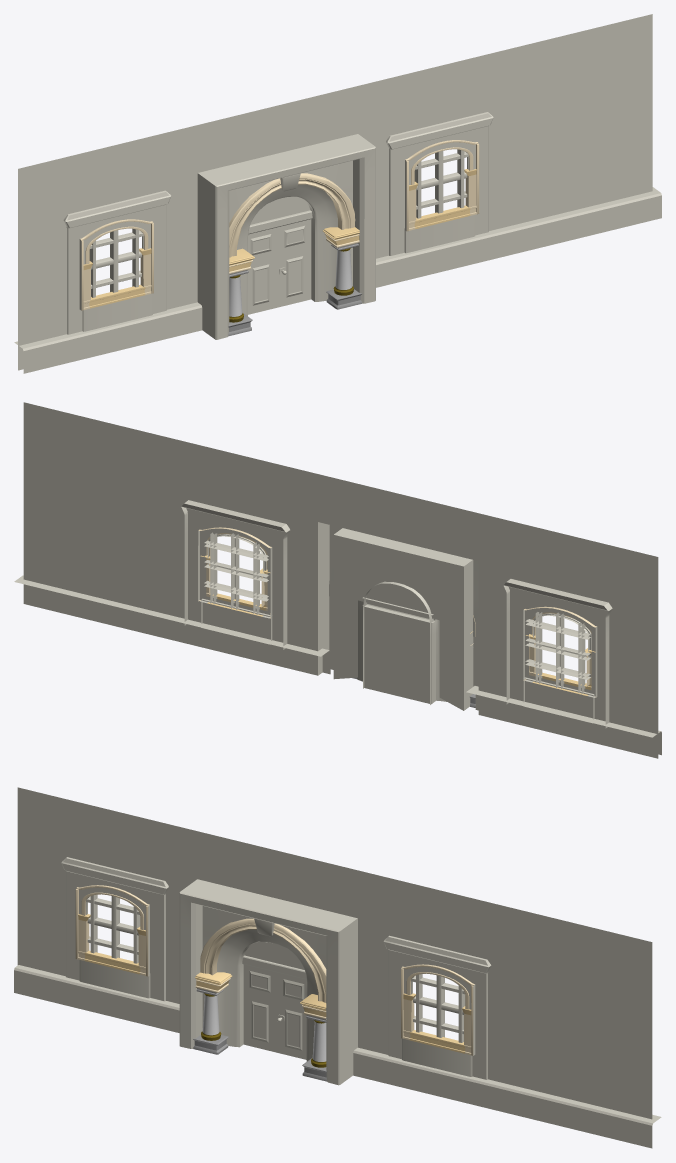
File: enter.fbx
The picture shows the model from 3 angles, top to bottom: view 1: azimuth 30°, elevation 25°; view 2: azimuth 150°, elevation 25°; view 3: azimuth 330°, elevation 25°; orthographic projection.
Parts seen in each view (by area): view 1: enter.002; view 2: enter.002; view 3: enter.002.
Boxes of the visible parts, box(x1,y1,x2,y2) form: enter.002: box(14, 14, 661, 373); enter.002: box(14, 402, 661, 758); enter.002: box(14, 787, 661, 1148).
Size of the model in its own units: 1062 by 320 by 66.95.
